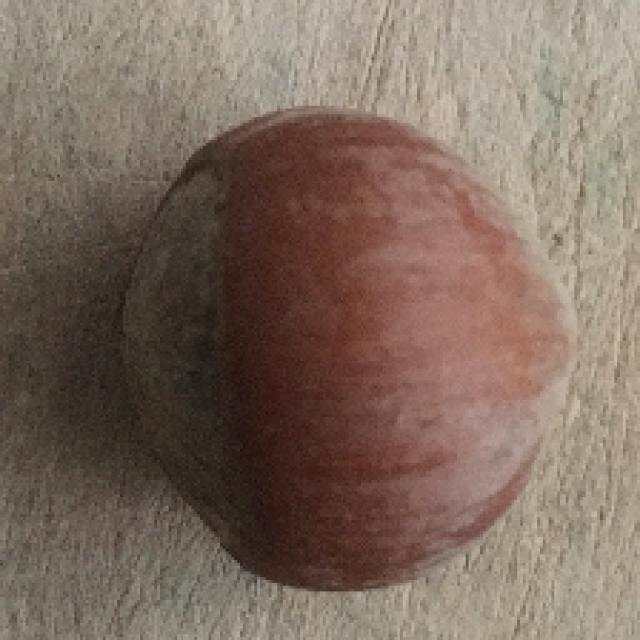qualityHazelnut: (103, 97, 570, 601)
